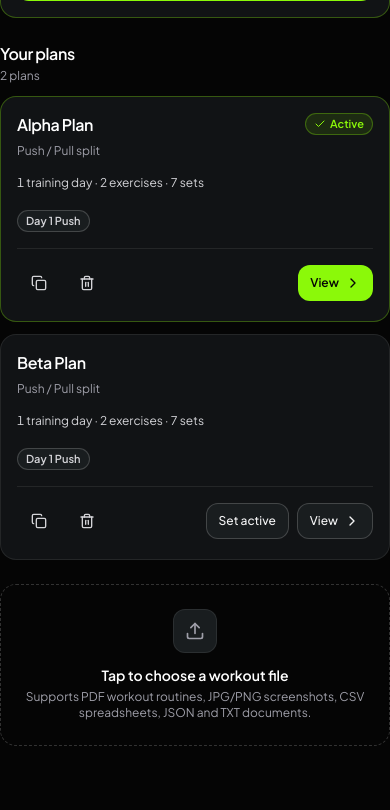
Test: PlansUploadView › asks for confirmation before deleting and does nothing on cancel
(page scrolled)
Step 1. Click the button named "Delete Beta Plan" → point(87, 521), box [65,499,109,543]
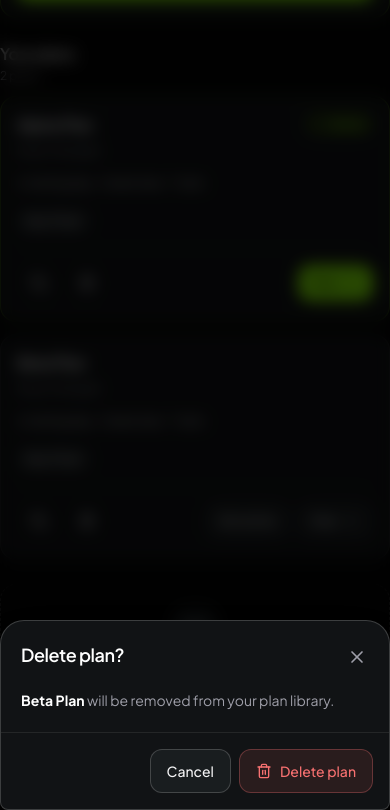
Now the dialog shows "Beta Plan", box [21,691,85,709]
Step 2. Click the button "Cancel" → point(190, 771), box [150,749,231,793]
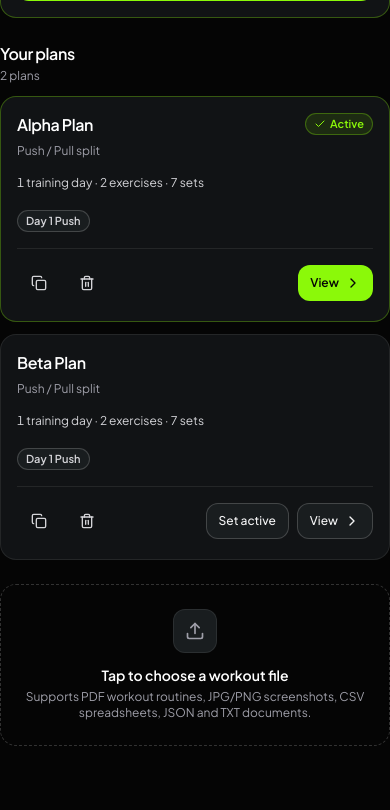
Now the dialog is gone
